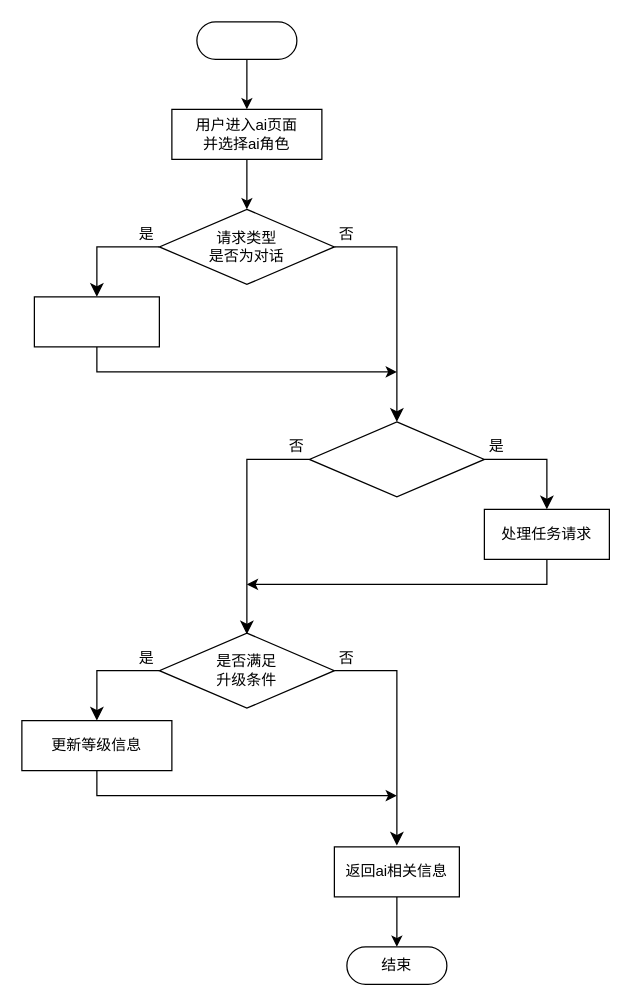
Some shapes in this 631 by 1006 pixel diagram are drawn without their labels. The box of each missing label's shape, as (x1, y1, x2, y2) in pixels:
开始: (196, 21, 297, 59)
请求类型 是否为任务: (308, 421, 484, 497)
调用模型生成回复: (33, 296, 159, 347)
